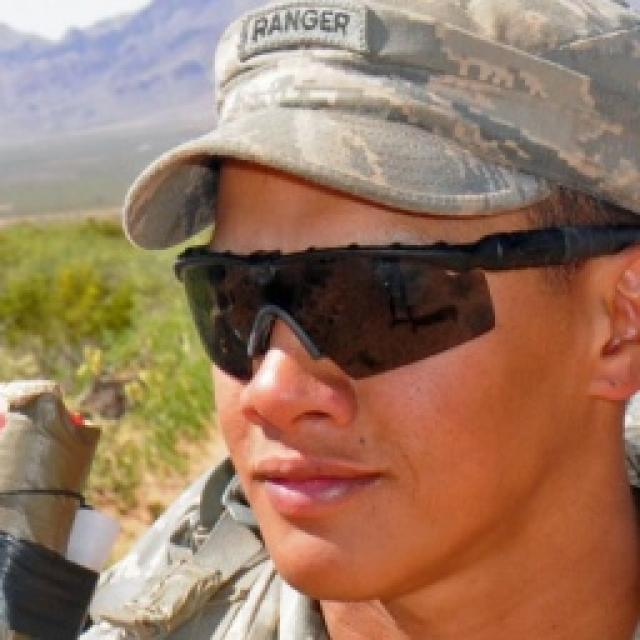glasses: (151, 219, 598, 400)
